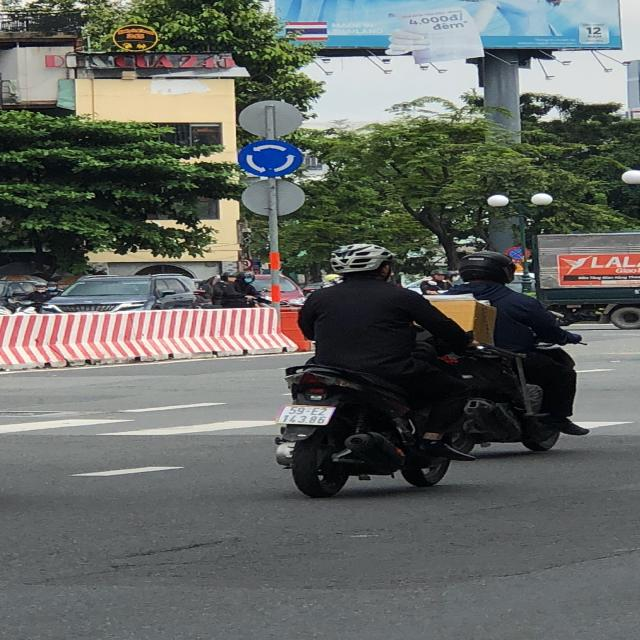Bien bao noi giao nhau chay theo vong xuyen: (234, 138, 307, 178)
